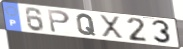2: (126, 17, 149, 43)
3: (151, 20, 174, 46)
6: (24, 7, 46, 33)
P: (46, 9, 72, 34)
Q: (75, 13, 97, 37)
X: (98, 14, 125, 41)
